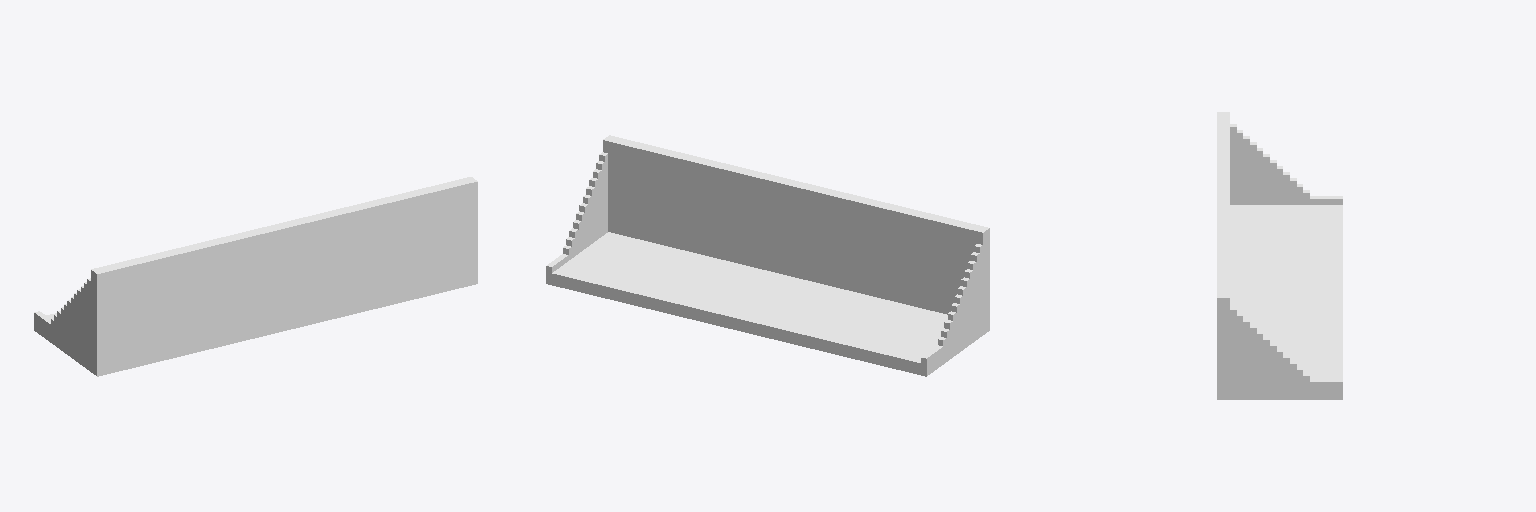
The model's file is polka2.obj.
3 views of the same model, side by side, from view 1: azimuth 30°, elevation 25°; view 2: azimuth 150°, elevation 25°; view 3: azimuth 270°, elevation 25° (orthographic).
Parts seen in each view (by area): view 1: object 1; view 2: object 1; view 3: object 1.
Boxes of the visible parts, box(x1,y1,x2,y2) form: object 1: box(34, 177, 477, 376); object 1: box(546, 135, 989, 376); object 1: box(1217, 112, 1342, 399).
Bounding box in the file's own units: 6.6 × 1.7 × 1.9.